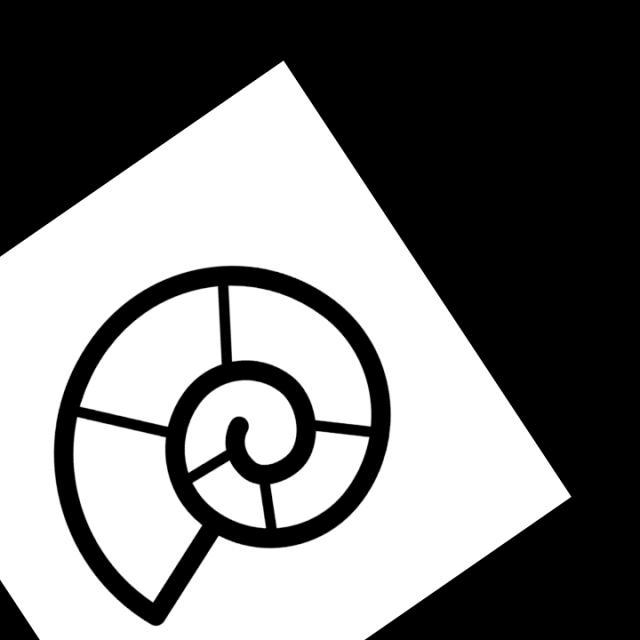fossil: (49, 258, 397, 640)
